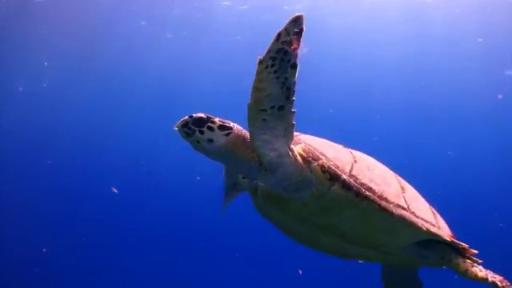Fish: (176, 15, 511, 287)
